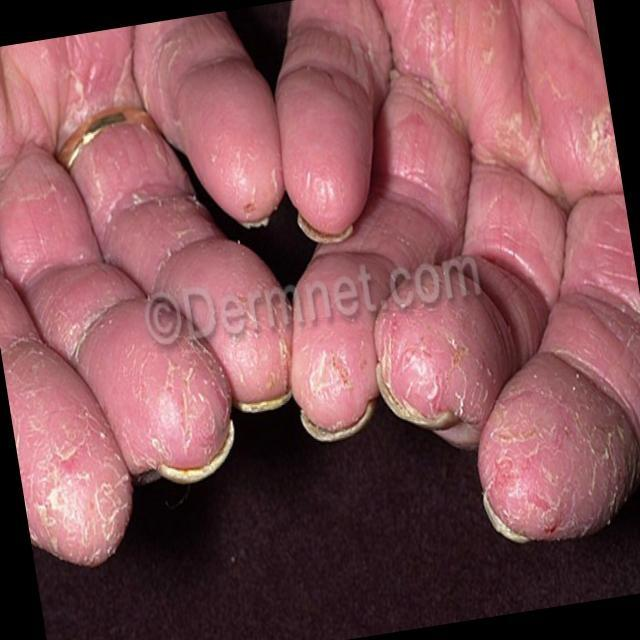Eczema: (304, 111, 630, 522), (14, 220, 262, 544)
